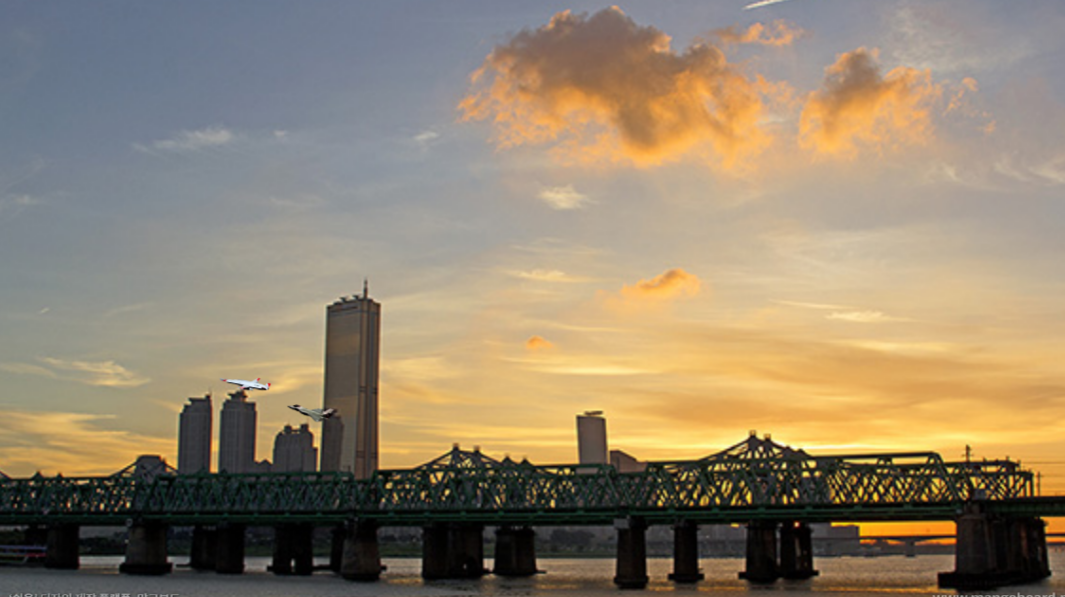airplane: (286, 403, 338, 421)
military drone: (218, 377, 270, 391)
